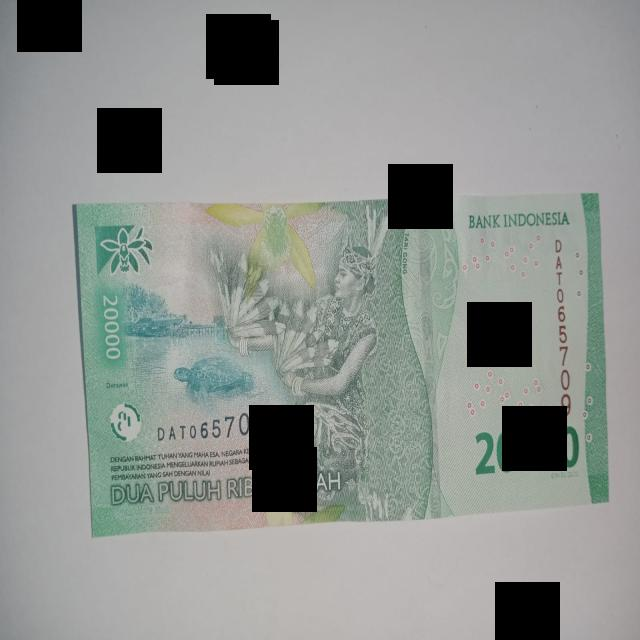dua puluh ribu rupiah: (74, 193, 609, 537)
